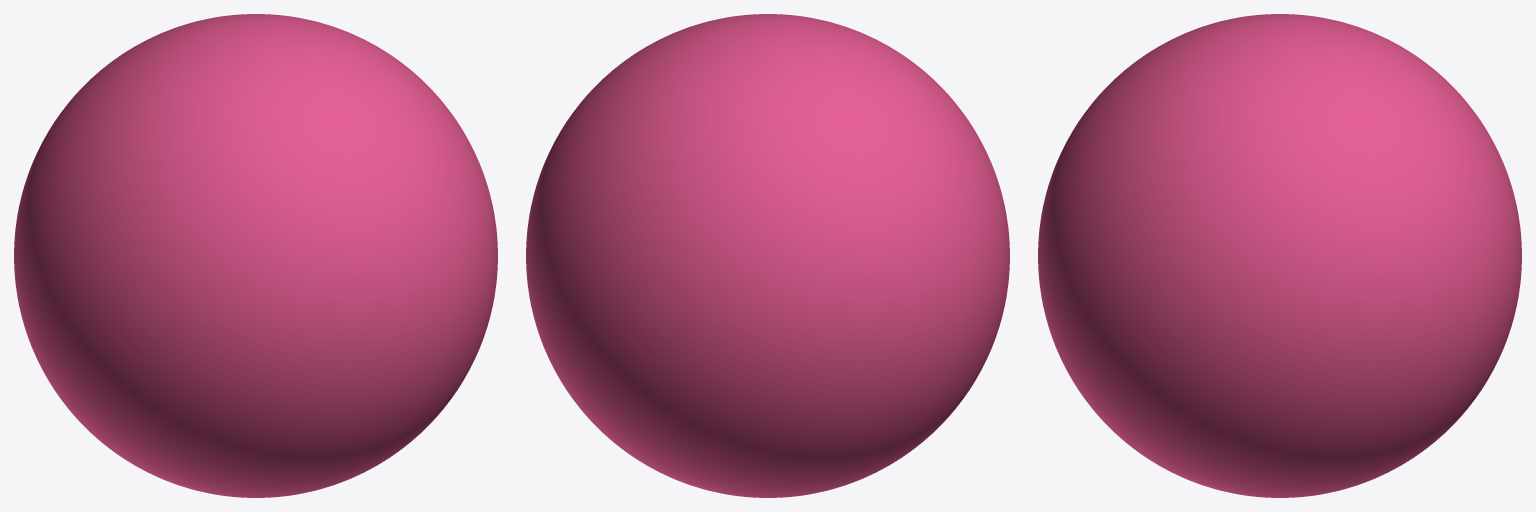
File: Planet_HIGHPOLY.obj
3 renders of one model, left to right at view 1: azimuth 30°, elevation 25°; view 2: azimuth 150°, elevation 25°; view 3: azimuth 270°, elevation 25°, orthographic.
Visible parts, largest first — view 1: Planet_HIGHPOLY; view 2: Planet_HIGHPOLY; view 3: Planet_HIGHPOLY.
Part boxes in pixels (x1,y1,x2,y2): Planet_HIGHPOLY: [14, 14, 497, 497]; Planet_HIGHPOLY: [526, 14, 1009, 497]; Planet_HIGHPOLY: [1038, 14, 1521, 497].
Size of the model in its own units: 69.32 by 69.36 by 69.34.
